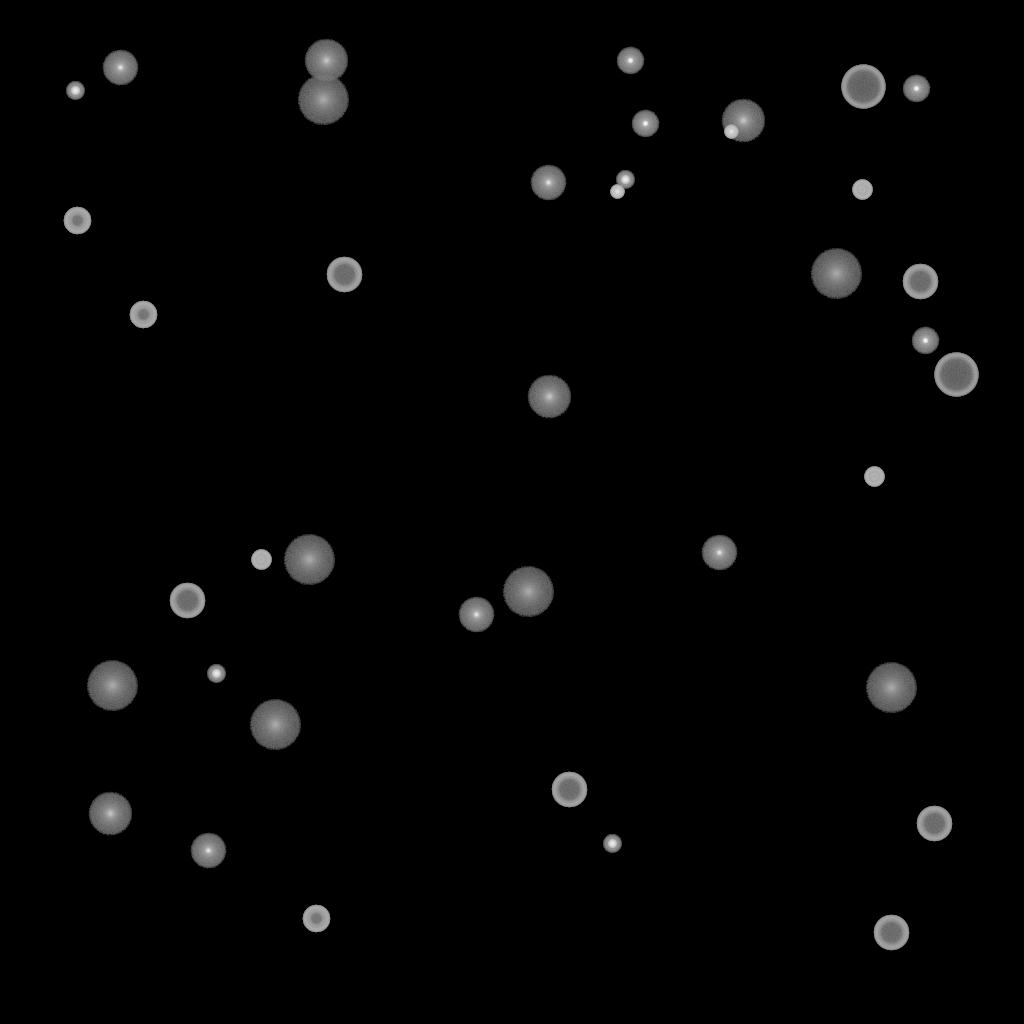depth:-10: (902, 75, 930, 103), (911, 327, 939, 355), (616, 47, 644, 75), (631, 110, 659, 138)
depth:-20: (66, 82, 84, 100), (603, 835, 621, 853), (207, 665, 225, 683), (616, 171, 634, 189)
depth:-30: (610, 185, 624, 199), (724, 125, 738, 139)
depth:-40: (251, 550, 271, 570), (852, 180, 872, 200), (864, 467, 884, 487)
depth:-50: (63, 207, 91, 235), (129, 301, 157, 329), (302, 905, 330, 933)
depth:-60: (169, 583, 205, 619), (551, 772, 587, 808), (916, 806, 952, 842), (873, 915, 909, 951), (326, 257, 362, 293), (902, 264, 938, 300)
depth:-70: (841, 65, 885, 109), (934, 353, 978, 397)
depth:0: (701, 535, 737, 571), (190, 833, 226, 869), (102, 50, 138, 86), (530, 165, 566, 201), (458, 597, 494, 633)
depth:10: (304, 39, 348, 83), (721, 99, 765, 143), (88, 792, 132, 836), (527, 375, 571, 419)
depth:20: (865, 663, 917, 713), (249, 700, 301, 750), (283, 535, 335, 585), (86, 661, 138, 711), (297, 75, 349, 125), (502, 567, 554, 617), (810, 249, 862, 299)
